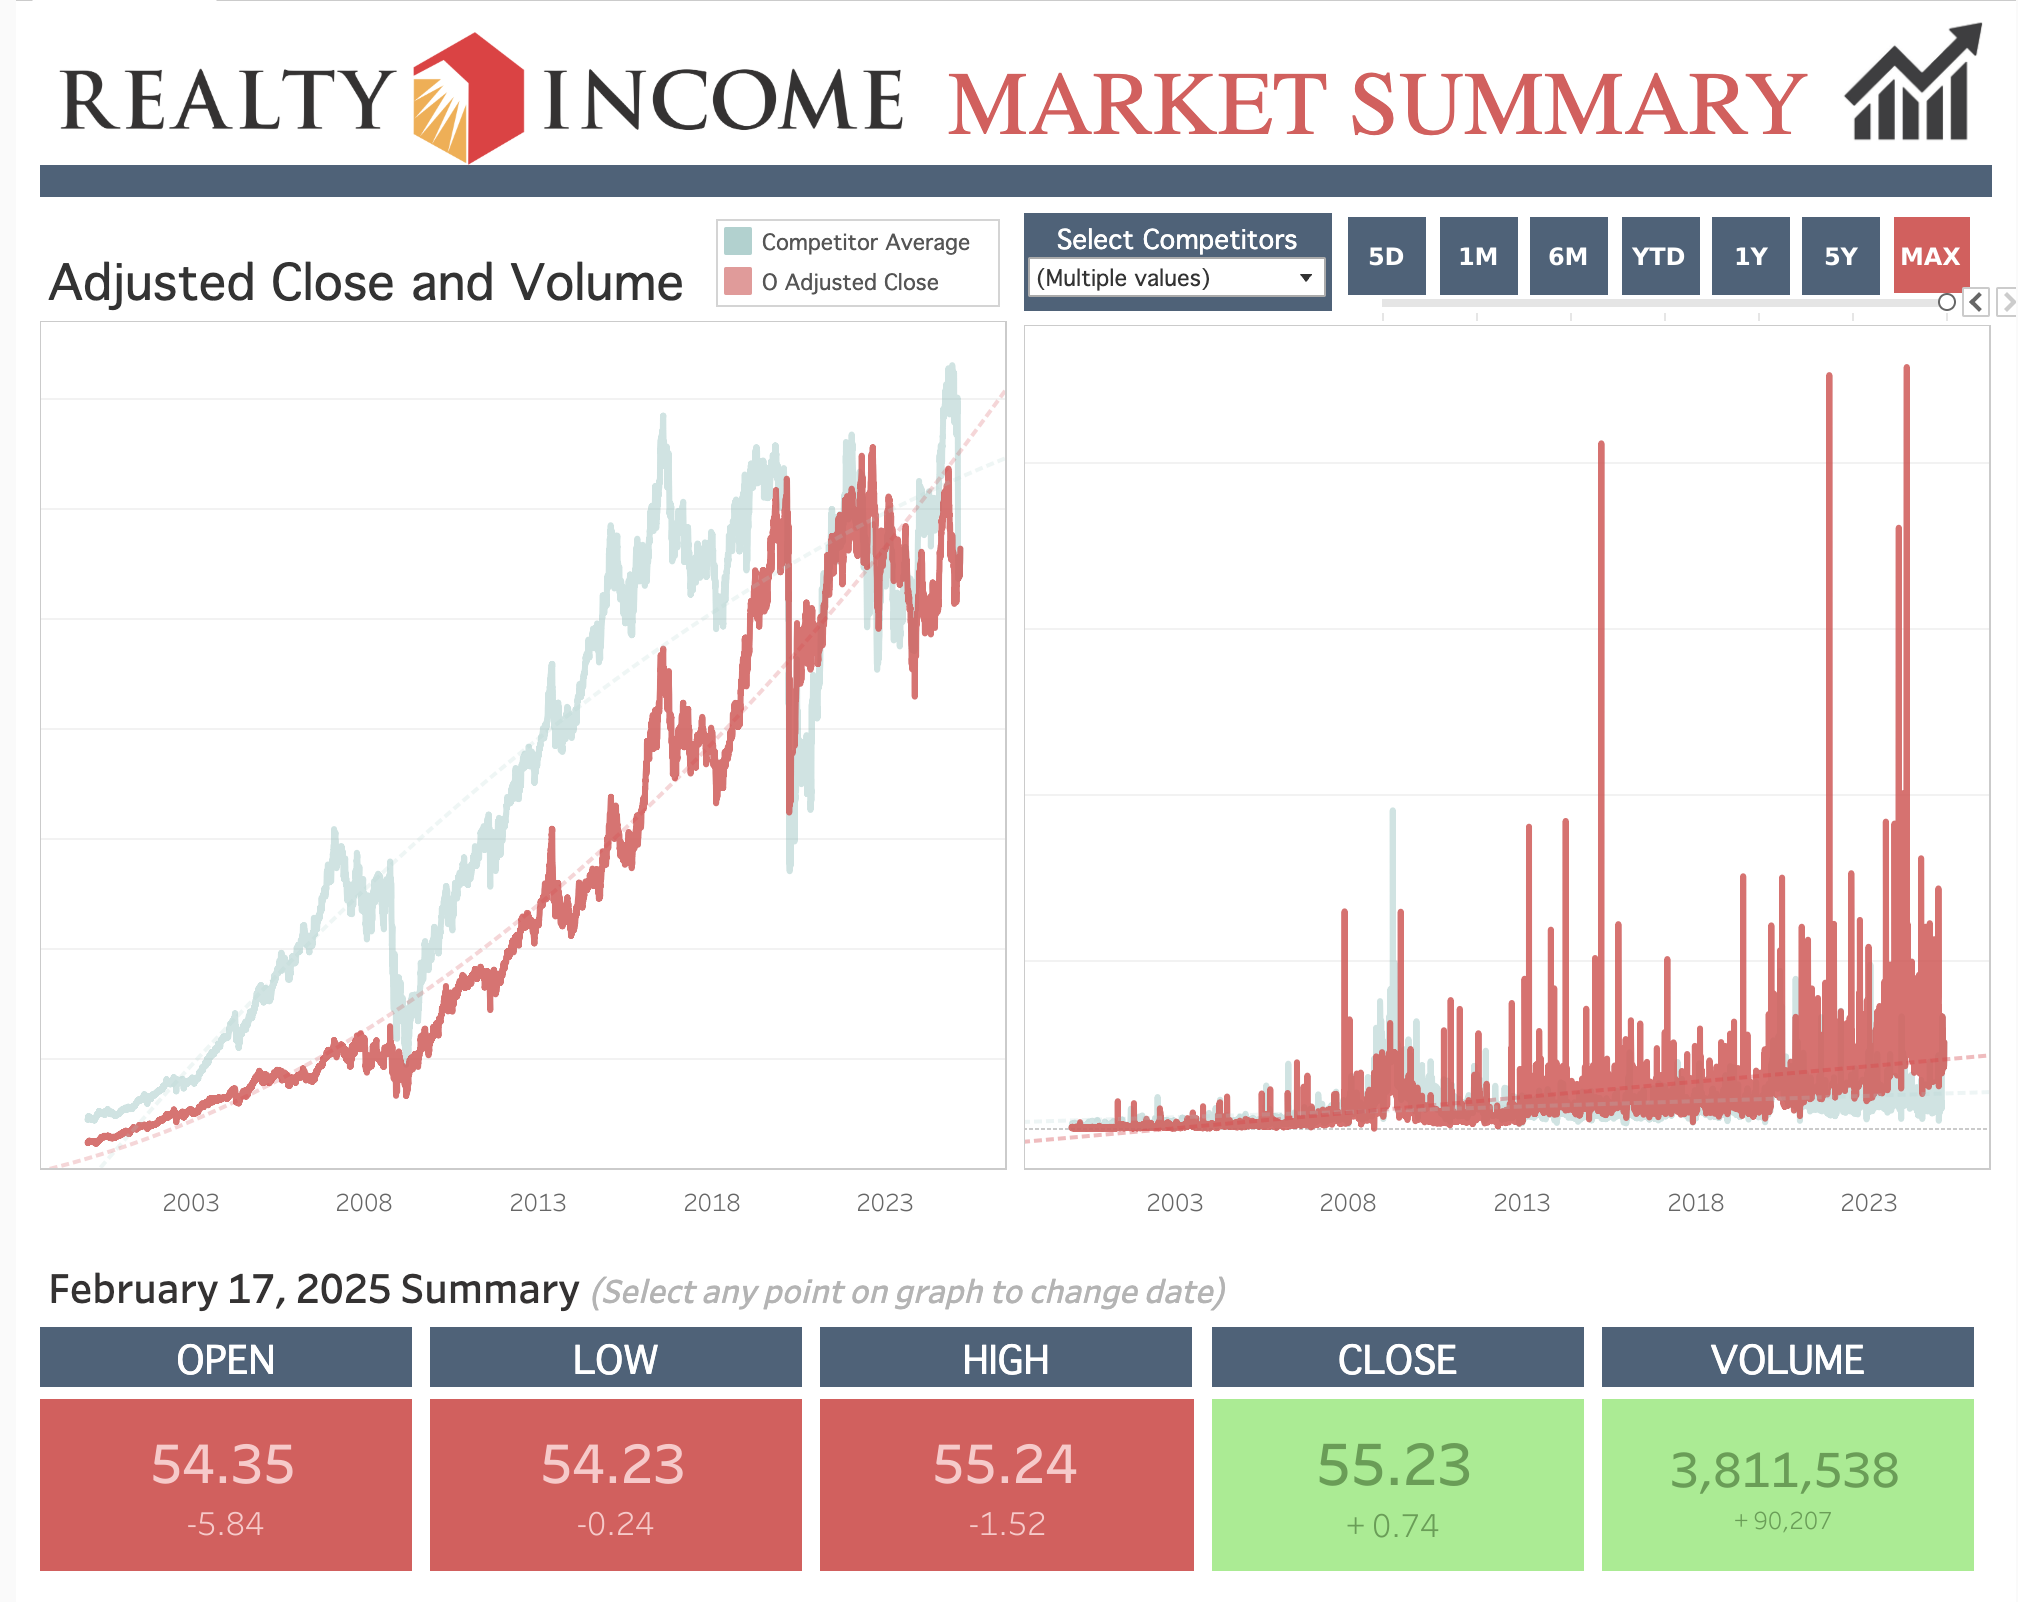

What the dashboard file says about the page in this screenshot:
{"tool":"tableau","page":{"name":"stock_board","canvas":[1000,800],"ordinal":4},"visuals":[{"type":"image","param":"/Users/connerkhudaverdyan/Desktop/Conner Stuff/images/stock_clipart_cleaned.png","box":[893,1,110,75]},{"type":"image","param":"/var/folders/vr/7j3r04fd5sd0mn53h_jrc5q00000gn/T/tableau-temp/13hg11o0cs1cm11epx","box":[16,7,403,81]},{"type":"blank","box":[8,8,984,68]},{"type":"image","param":"/var/folders/vr/7j3r04fd5sd0mn53h_jrc5q00000gn/T/tableau-temp/11p6qii1nmdkqf1f52","box":[25,12,493,67]},{"type":"text","box":[466,20,492,60]},{"type":"blank","box":[8,76,984,24.5]},{"type":"worksheet","title":"O_Close ","mark":"Line","rows":["adjClose (O!stock!data1)","adjClose"],"cols":["date"],"box":[8,100.5,492,516.5]},{"type":"worksheet","title":"O_Vol","mark":"Line","rows":["adjVolume (O!stock!data1)","adjVolume"],"cols":["date"],"box":[500,100.5,492,516.5]},{"type":"worksheet","title":"date_filter","mark":"Square","cols":["Calculation_413486782308753442"],"box":[663,101,318,49]},{"type":"worksheet","title":"5D","mark":"Square","cols":["Date Range (copy)_413486782344232998"],"box":[661,103,51,46]},{"type":"worksheet","title":"1M","mark":"Square","cols":["6M (copy)_5259289613313019906"],"box":[704,103,51,46]},{"type":"worksheet","title":"6M","mark":"Square","cols":["1Y (copy)_5259289613312307201"],"box":[750,103,51,46]},{"type":"worksheet","title":"YTD","mark":"Square","cols":["1Y (copy)_5259289613314732035"],"box":[796,103,51,46]},{"type":"worksheet","title":"1Y","mark":"Square","cols":["5Y (copy)_5259289613311131648"],"box":[841,103,51,46]},{"type":"worksheet","title":"5Y","mark":"Square","cols":["MAX (copy)_413486782490538029"],"box":[889,103,51,46]},{"type":"worksheet","title":"max","mark":"Square","cols":["5D (copy)_413486782345338919"],"box":[935,103,46,44]},{"type":"text","box":[504,104,154,49]},{"type":"filter","title":"O_Close ","param":"[federated.0548r2z0eztwy81h6d9ya1yy3gui].[none:symbol:nk]","box":[503,106,155,53]},{"type":"legend","title":"O_Close ","param":"[federated.0548r2z0eztwy81h6d9ya1yy3gui].[:Measure Names]","box":[18,168,142,44]},{"type":"worksheet","title":"summary","mark":"Automatic","cols":["Calculation_5259289613366530055","Calculation_5259289613366571016","Calculation_5259289613366652937","Calculation_5259289613366673418","Calculation_5259289613366693899"],"box":[8,617,984,175]},{"type":"text","box":[12,661,186,30]},{"type":"text","box":[207,661,186,30]},{"type":"text","box":[402,661,186,30]},{"type":"text","box":[598,661,186,30]},{"type":"text","box":[793,661,186,30]}]}

Visuals, with their boxes in screenshot pixels (x1, y1, x2, y2), scaled from the page's 1000x800 canvas onto the 2018x1602 screenshot:
image: [left=1802, top=2, right=2017, bottom=152]
image: [left=32, top=14, right=846, bottom=176]
blank: [left=16, top=16, right=2002, bottom=152]
image: [left=50, top=24, right=1045, bottom=158]
text: [left=940, top=40, right=1933, bottom=160]
blank: [left=16, top=152, right=2002, bottom=201]
"O_Close " worksheet (Line marks): [left=16, top=201, right=1009, bottom=1236]
"O_Vol" worksheet (Line marks): [left=1009, top=201, right=2002, bottom=1236]
"date_filter" worksheet (Square marks): [left=1338, top=202, right=1980, bottom=300]
"5D" worksheet (Square marks): [left=1334, top=206, right=1437, bottom=298]
"1M" worksheet (Square marks): [left=1421, top=206, right=1524, bottom=298]
"6M" worksheet (Square marks): [left=1513, top=206, right=1616, bottom=298]
"YTD" worksheet (Square marks): [left=1606, top=206, right=1709, bottom=298]
"1Y" worksheet (Square marks): [left=1697, top=206, right=1800, bottom=298]
"5Y" worksheet (Square marks): [left=1794, top=206, right=1897, bottom=298]
"max" worksheet (Square marks): [left=1887, top=206, right=1980, bottom=294]
text: [left=1017, top=208, right=1328, bottom=306]
"O_Close " filter: [left=1015, top=212, right=1328, bottom=318]
"O_Close " legend: [left=36, top=336, right=323, bottom=425]
"summary" worksheet: [left=16, top=1236, right=2002, bottom=1586]
text: [left=24, top=1324, right=400, bottom=1384]
text: [left=418, top=1324, right=793, bottom=1384]
text: [left=811, top=1324, right=1187, bottom=1384]
text: [left=1207, top=1324, right=1582, bottom=1384]
text: [left=1600, top=1324, right=1976, bottom=1384]
